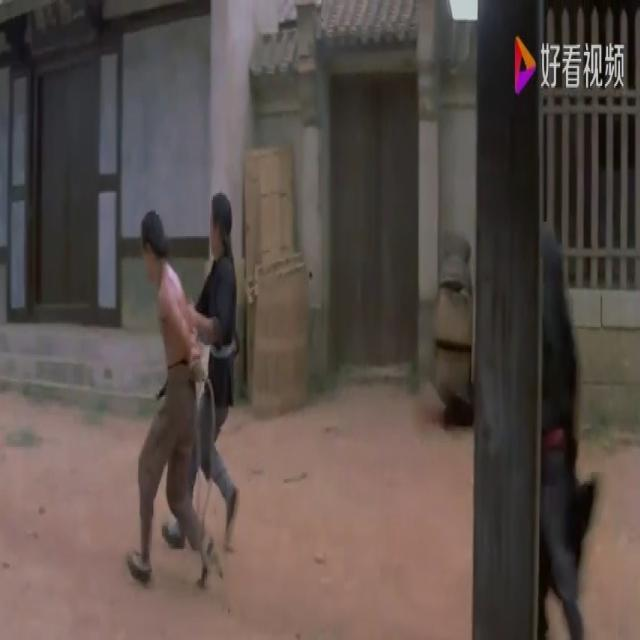fight: (117, 179, 258, 595)
